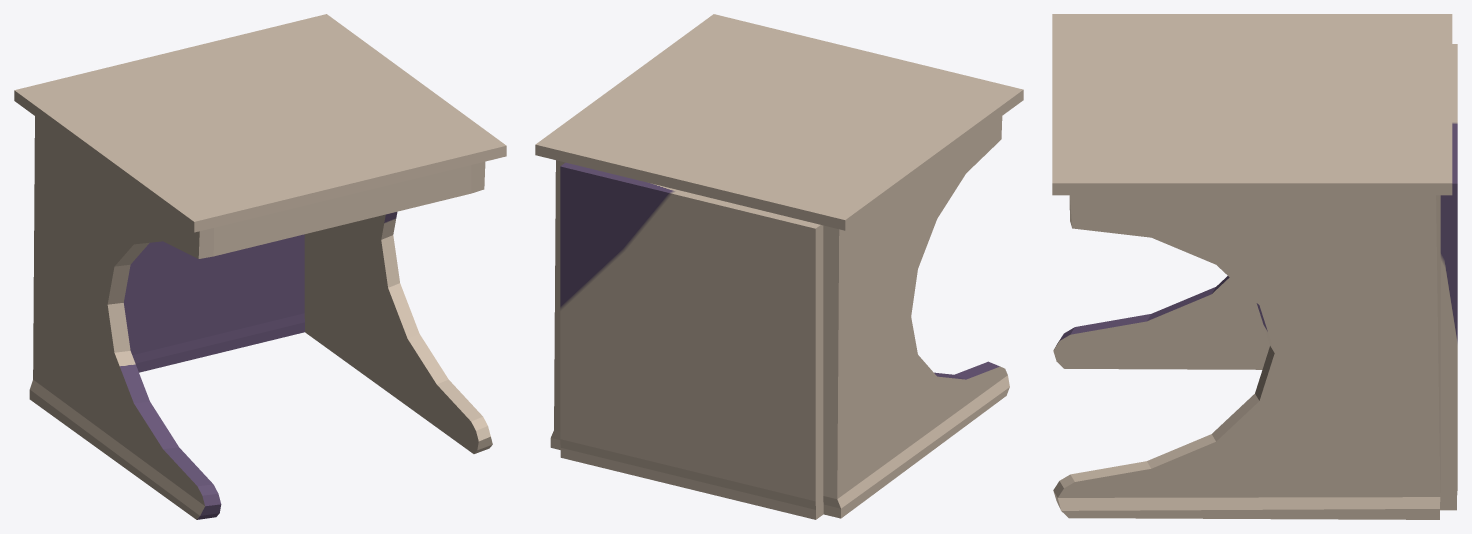
Rendered from MS_Desk01_Default01.fbx.
The picture shows the model from 3 angles, left to right: view 1: azimuth 30°, elevation 25°; view 2: azimuth 150°, elevation 25°; view 3: azimuth 270°, elevation 25°; orthographic projection. The views are drawn at different scales.
Parts seen in each view (by area): view 1: MS_Desk01_Default01; view 2: MS_Desk01_Default01; view 3: MS_Desk01_Default01.
Part boxes in pixels (<box>): MS_Desk01_Default01: <box>14,14,506,519</box>; MS_Desk01_Default01: <box>535,14,1023,519</box>; MS_Desk01_Default01: <box>1052,14,1457,519</box>.
Bounding box in the file's own units: 123 × 116 × 124.
